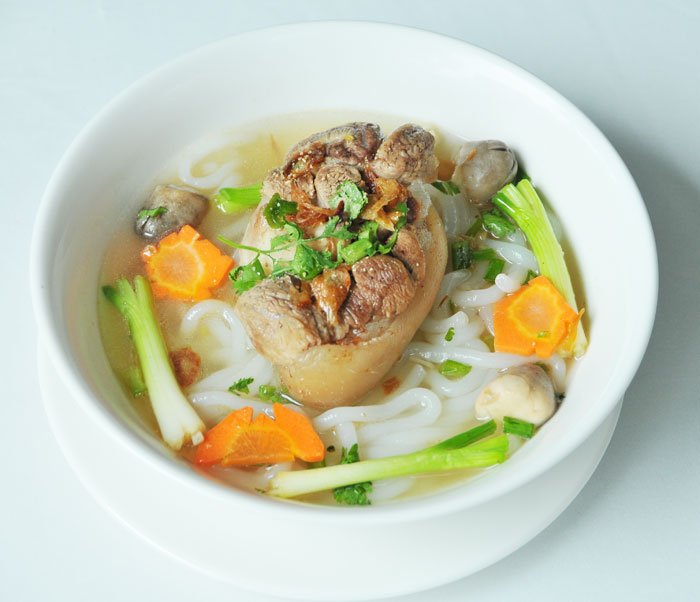chamoc: (475, 361, 558, 428)
onion: (262, 424, 511, 505)
pork: (237, 132, 448, 393)
